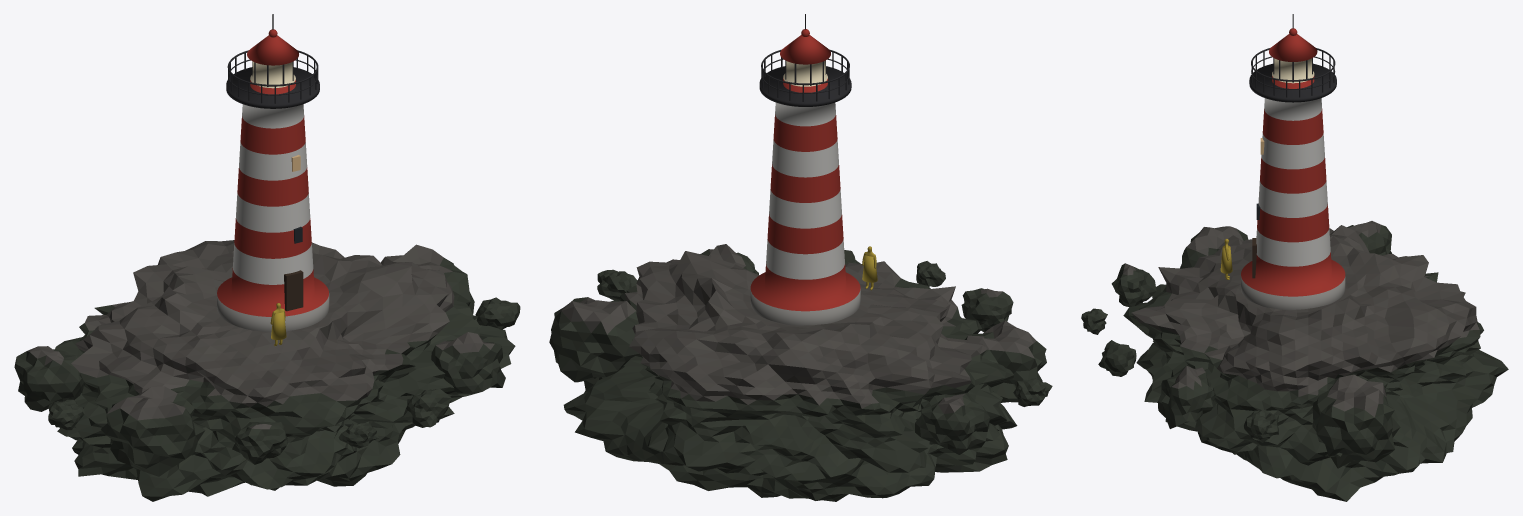
Rendered from lighthouse.glb.
3 renders of one model, left to right at view 1: azimuth 30°, elevation 25°; view 2: azimuth 150°, elevation 25°; view 3: azimuth 270°, elevation 25°, orthographic. The views are drawn at different scales.
Parts seen in each view (by area): view 1: lighthouse; view 2: lighthouse; view 3: lighthouse.
Part boxes in pixels (x1,y1,x2,y2): lighthouse: (14, 14, 520, 501); lighthouse: (549, 14, 1052, 501); lighthouse: (1081, 14, 1508, 501).
Bounding box in the file's own units: 26.34 × 24.76 × 22.49.
